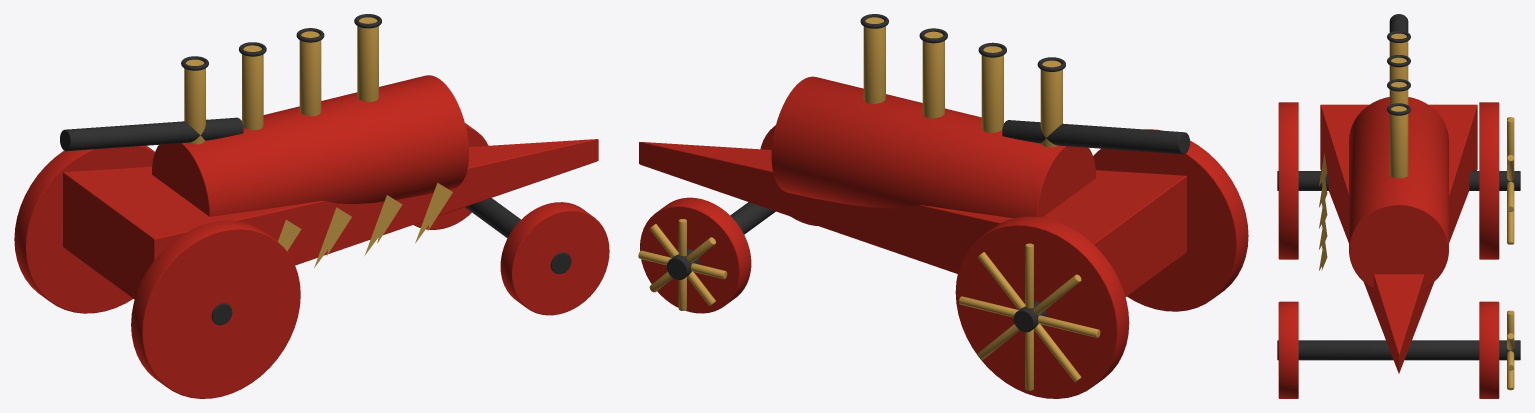
3 views of the same model, side by side, from view 1: azimuth 30°, elevation 25°; view 2: azimuth 150°, elevation 25°; view 3: azimuth 270°, elevation 25° (orthographic). The views are drawn at different scales.
Visible parts, largest first — view 1: TI061 / exposed steam boiler, TI061 / pointed red racing chassis, TI061 / separate racer wheel, TI061 / separate racer wheel.001, TI061 / separate racer wheel.002, TI061 / ornamental rear harpoon assembly, TI061 / steam exhaust stack.002, TI061 / steam exhaust stack.001, TI061 / steam exhaust stack.003, TI061 / steam exhaust stack, TI061 / wheel axle.002, TI061 / separate racer wheel.003 (+3 smaller); view 2: TI061 / exposed steam boiler, TI061 / pointed red racing chassis, TI061 / separate racer wheel.001, TI061 / separate racer wheel, TI061 / separate racer wheel.003, TI061 / ornamental rear harpoon assembly, TI061 / steam exhaust stack.002, TI061 / steam exhaust stack.003, TI061 / steam exhaust stack.001, TI061 / steam exhaust stack, TI061 / wheel axle.002, TI061 / wheel spoke.013 (+6 smaller); view 3: TI061 / exposed steam boiler, TI061 / pointed red racing chassis, TI061 / wheel axle.002, TI061 / separate racer wheel, TI061 / separate racer wheel.001, TI061 / separate racer wheel.002, TI061 / separate racer wheel.003, TI061 / steam exhaust stack.003, TI061 / wheel axle, TI061 / steam exhaust stack.002, TI061 / steam exhaust stack.001, TI061 / steam exhaust stack (+4 smaller).
Boxes of the visible parts, <box> form: TI061 / exposed steam boiler: <box>151,75,469,216</box>; TI061 / pointed red racing chassis: <box>63,139,598,299</box>; TI061 / separate racer wheel: <box>131,220,300,398</box>; TI061 / separate racer wheel.001: <box>14,145,154,313</box>; TI061 / separate racer wheel.002: <box>500,202,609,315</box>; TI061 / ornamental rear harpoon assembly: <box>60,117,243,151</box>; TI061 / steam exhaust stack.002: <box>299,31,321,116</box>; TI061 / steam exhaust stack.001: <box>242,45,263,130</box>; TI061 / steam exhaust stack.003: <box>357,17,378,102</box>; TI061 / steam exhaust stack: <box>184,59,205,144</box>; TI061 / wheel axle.002: <box>465,198,571,273</box>; TI061 / separate racer wheel.003: <box>413,123,488,229</box>; TI061 / exposed steam boiler: <box>771,76,1095,218</box>; TI061 / pointed red racing chassis: <box>639,142,1186,297</box>; TI061 / separate racer wheel.001: <box>955,216,1129,398</box>; TI061 / separate racer wheel: <box>1093,129,1248,311</box>; TI061 / separate racer wheel.003: <box>640,197,751,313</box>; TI061 / ornamental rear harpoon assembly: <box>1002,120,1189,154</box>; TI061 / steam exhaust stack.002: <box>922,31,944,118</box>; TI061 / steam exhaust stack.003: <box>863,17,885,104</box>; TI061 / steam exhaust stack.001: <box>981,46,1003,132</box>; TI061 / steam exhaust stack: <box>1040,60,1062,147</box>; TI061 / wheel axle.002: <box>667,202,775,279</box>; TI061 / wheel spoke.013: <box>1034,324,1081,382</box>; TI061 / exposed steam boiler: <box>1349,97,1448,288</box>; TI061 / pointed red racing chassis: <box>1320,104,1477,373</box>; TI061 / wheel axle.002: <box>1277,340,1520,360</box>; TI061 / separate racer wheel: <box>1278,102,1298,259</box>; TI061 / separate racer wheel.001: <box>1479,102,1499,259</box>; TI061 / separate racer wheel.002: <box>1278,301,1298,398</box>; TI061 / separate racer wheel.003: <box>1479,301,1499,398</box>; TI061 / steam exhaust stack.003: <box>1389,106,1408,178</box>; TI061 / wheel axle: <box>1277,171,1520,190</box>; TI061 / steam exhaust stack.002: <box>1389,82,1408,104</box>; TI061 / steam exhaust stack.001: <box>1389,57,1408,80</box>; TI061 / steam exhaust stack: <box>1389,33,1408,56</box>.
Size of the model in its own units: 3.71 by 1.81 by 1.7.
